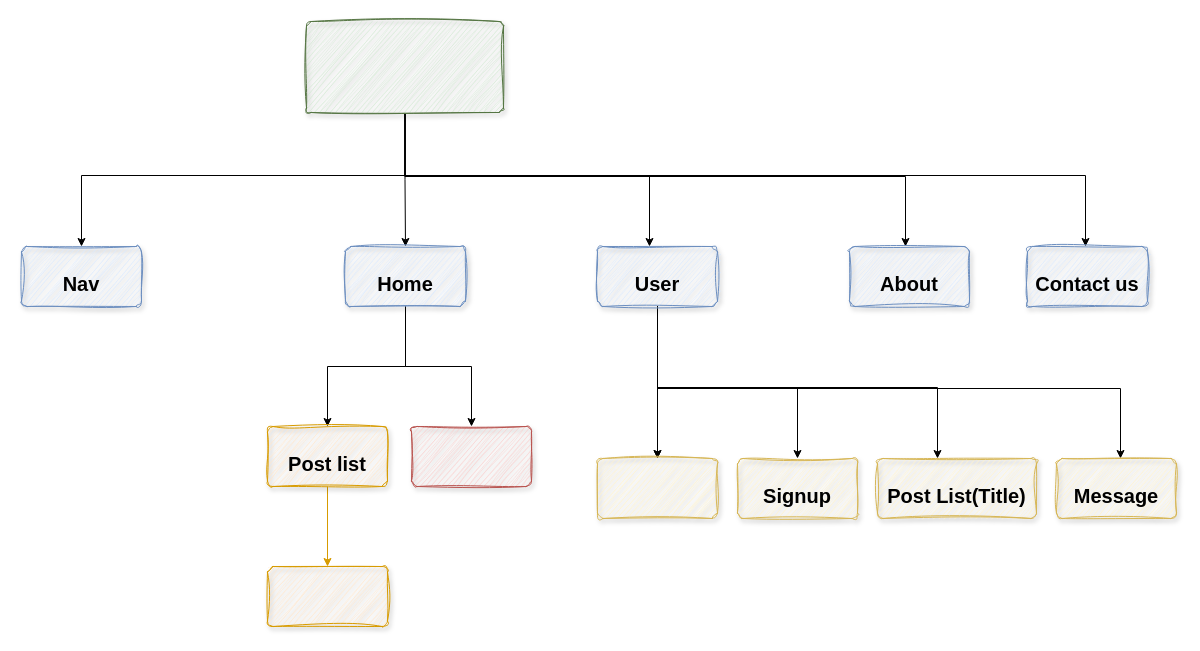
The diagram is 1200 pixels wide and 651 high, and some of its shapes have lost their labels. Here are the shapes that lost their labels. From the top down, the centre of each, then its label:
point (406, 68): App
point (472, 458): Car List
point (658, 490): Signin
point (328, 598): post
